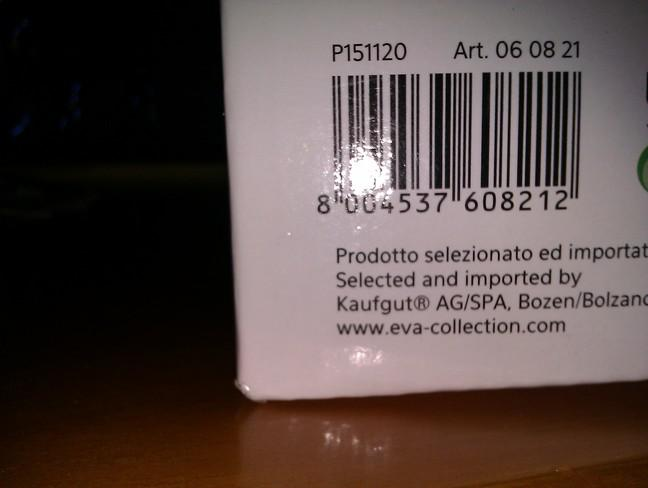Barkod: (296, 63, 600, 230)
